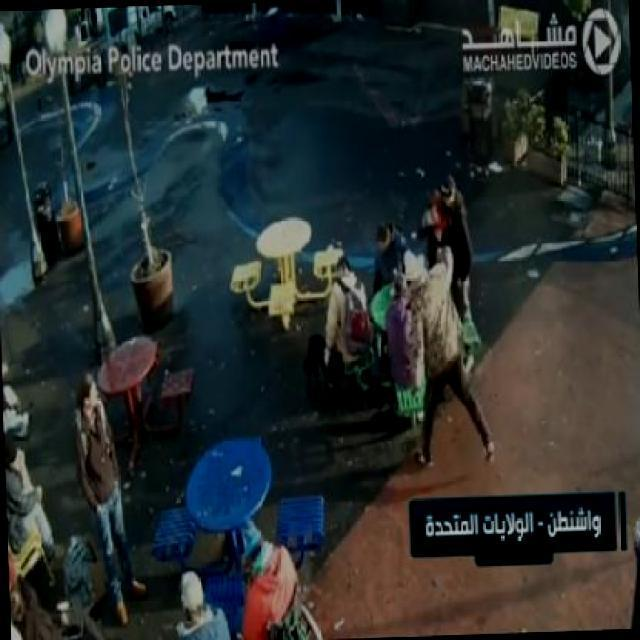fight: (384, 246, 498, 480)
